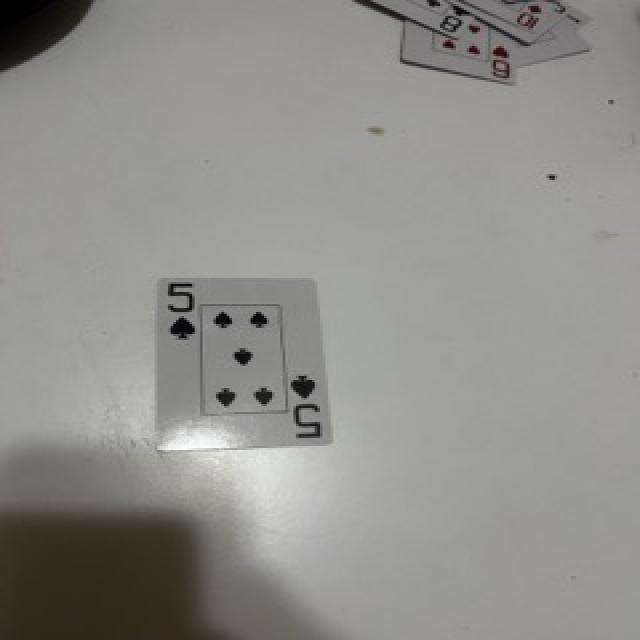5 of spades: (157, 279, 332, 450)
